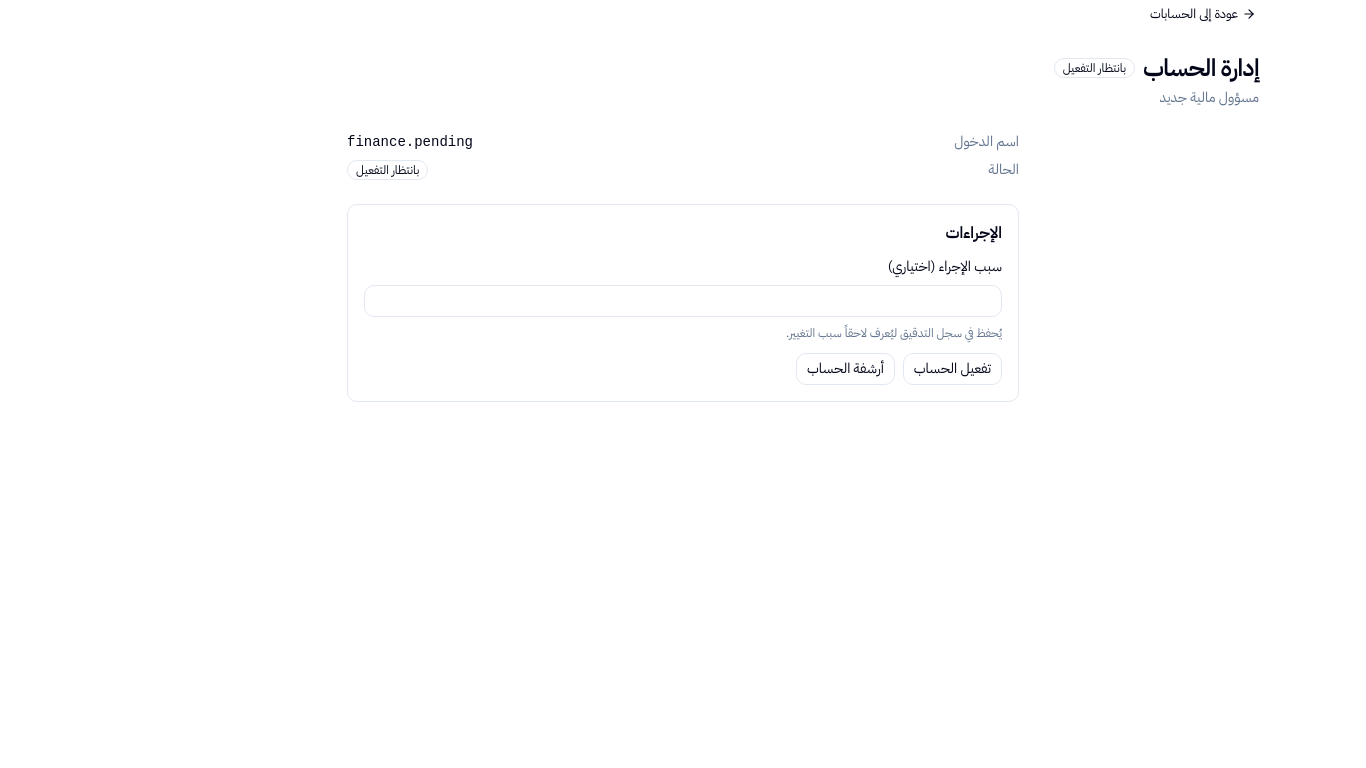
Scenario: accounts activation security › confirms controlled delivery and expiry in a dialog and never exposes the activation secret
Pending accounts expose the activation action on the detail page.
Click the button "تفعيل الحساب" at (952, 369), box [903,353,1002,385]
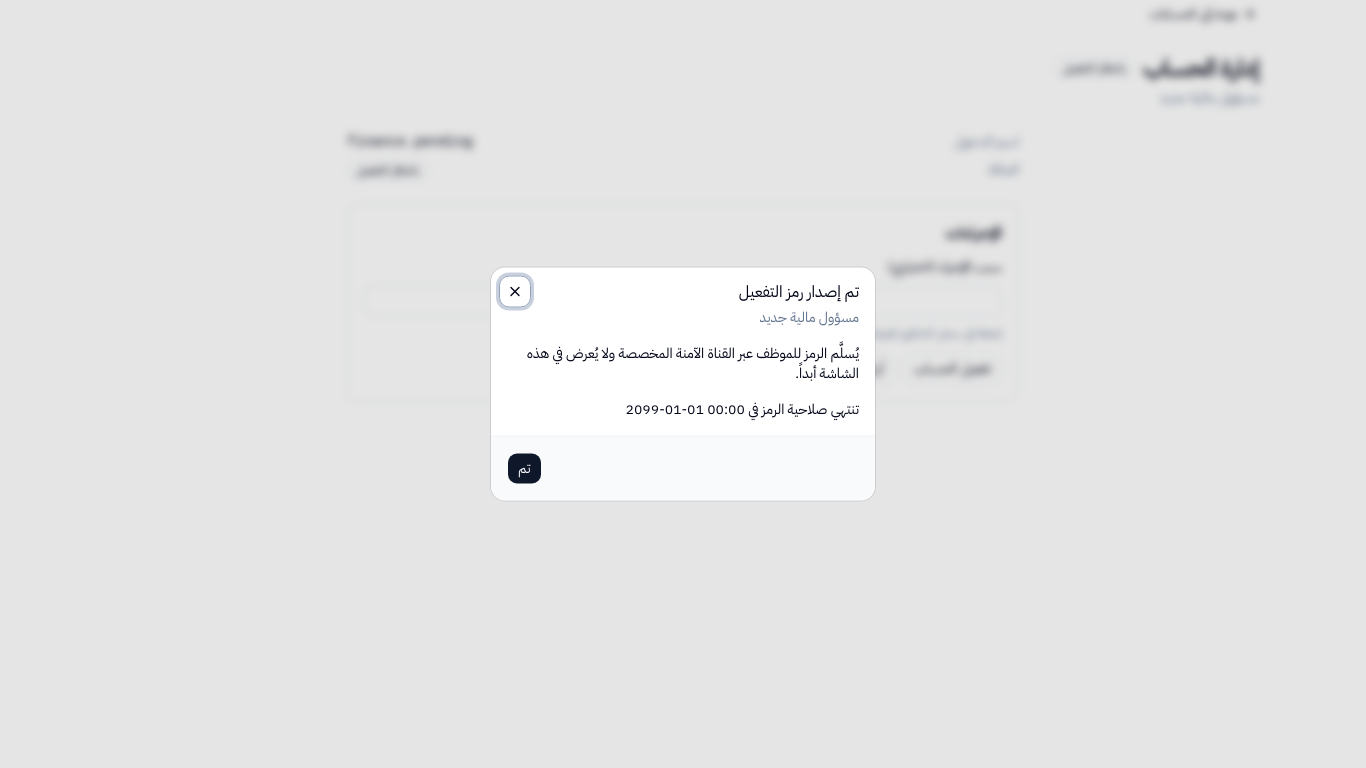
Expected: the text "تنتهي صلاحية الرمز في 2099-01-01 00:00" is shown, [626,398,859,420]
